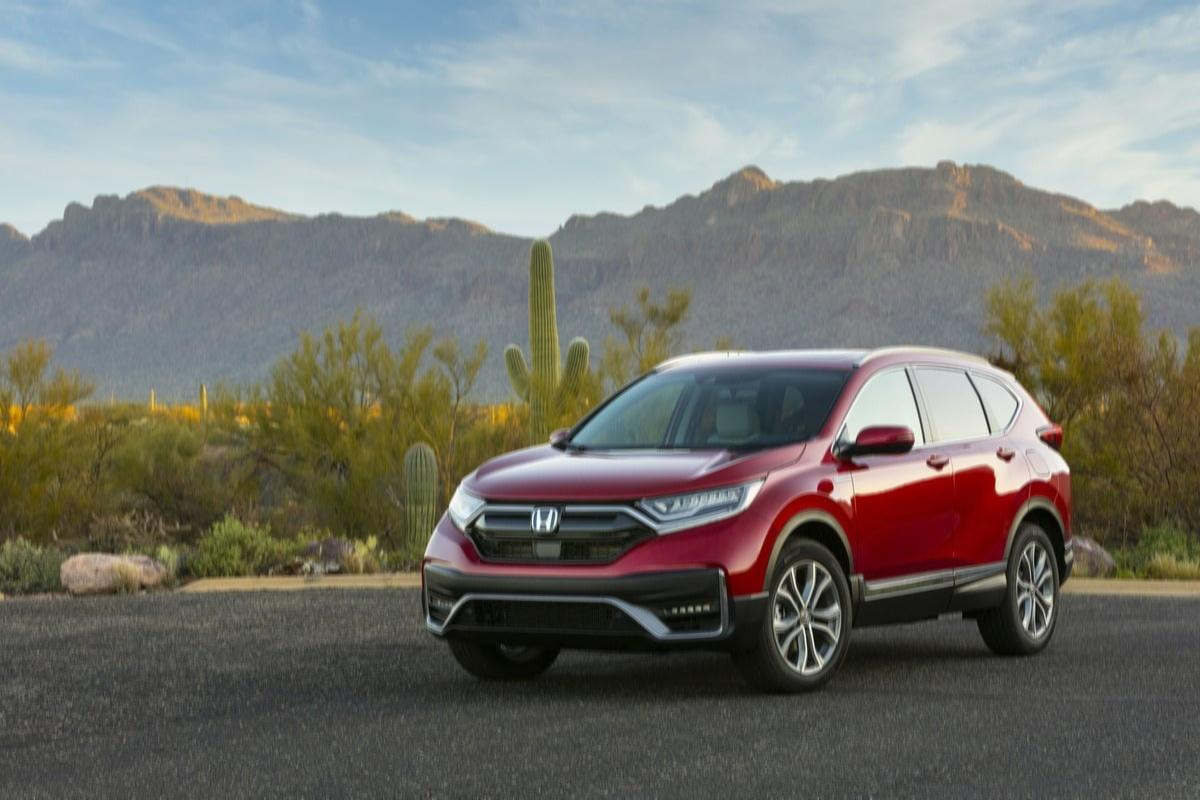Car hood: (455, 449, 808, 507)
Fender - -F-L-: (744, 433, 865, 624)
Fender - -R-L-: (1020, 436, 1062, 522)
Front bumper: (409, 536, 787, 652)
Headlight - -L-: (616, 472, 783, 542)
Headlight - -R-: (439, 480, 501, 533)
Passenger-s door - -F-L-: (856, 347, 946, 590)
Passenger-s door - -R-L-: (927, 357, 1024, 580)
Rear bumper: (1051, 465, 1082, 593)
Rear light - -L-: (1024, 407, 1069, 452)
Side bumper - -L-: (840, 556, 1029, 618)
Side mirror - -L-: (841, 419, 922, 464)
Side mirror - -R-: (535, 417, 586, 454)
